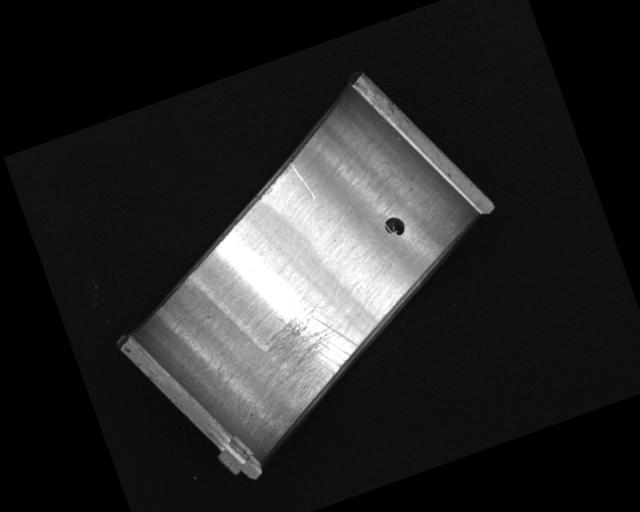blot: (381, 213, 408, 240)
nick: (289, 160, 316, 203)
scratch: (243, 295, 376, 432)
